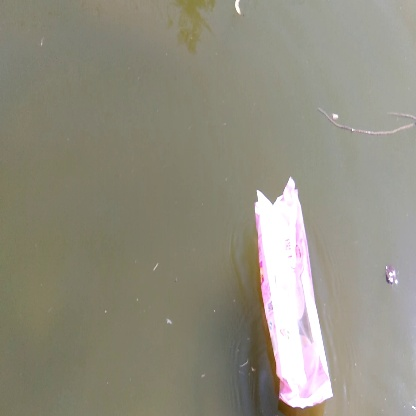bottle: (249, 174, 338, 407)
